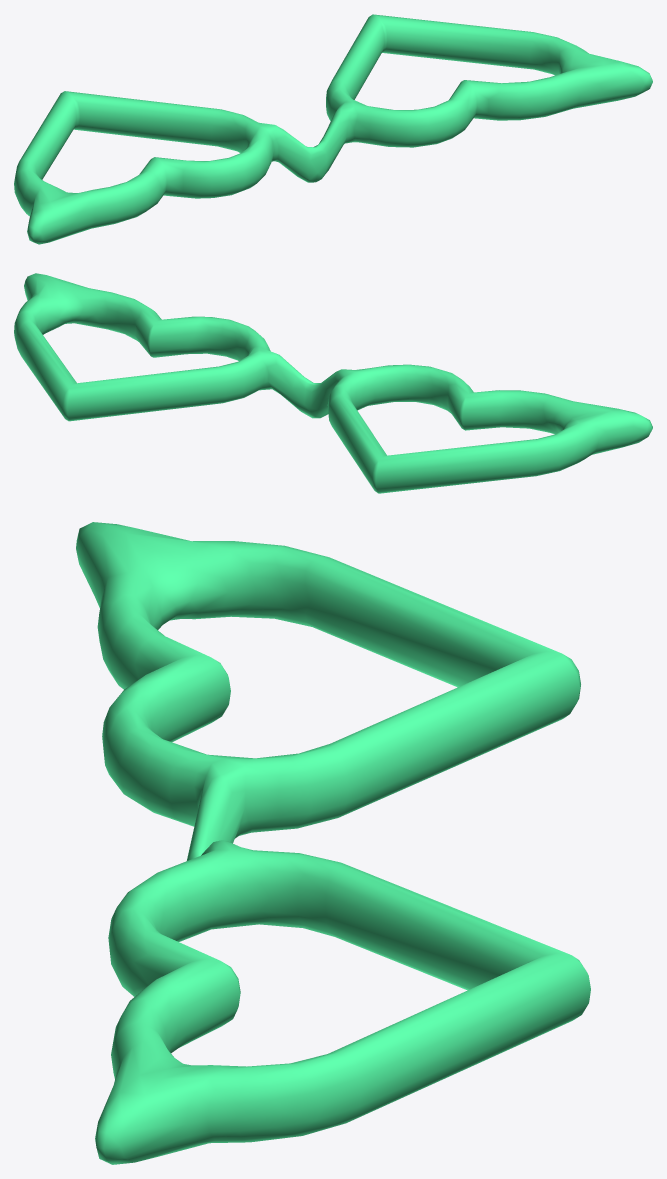
File: heart.fbx
3 views of the same model, one above another, from view 1: azimuth 30°, elevation 25°; view 2: azimuth 150°, elevation 25°; view 3: azimuth 270°, elevation 25° (orthographic). The views are drawn at different scales.
Parts seen in each view (by area): view 1: 0heart; view 2: 0heart; view 3: 0heart.
Boxes of the visible parts, x1,y1,x2,y2 form: 0heart: [14, 14, 652, 244]; 0heart: [14, 273, 652, 493]; 0heart: [76, 522, 590, 1164].
Bounding box in the file's own units: 200 × 19.37 × 71.74.
